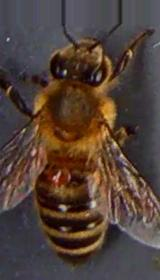varroa_mite: (52, 164, 72, 186)
